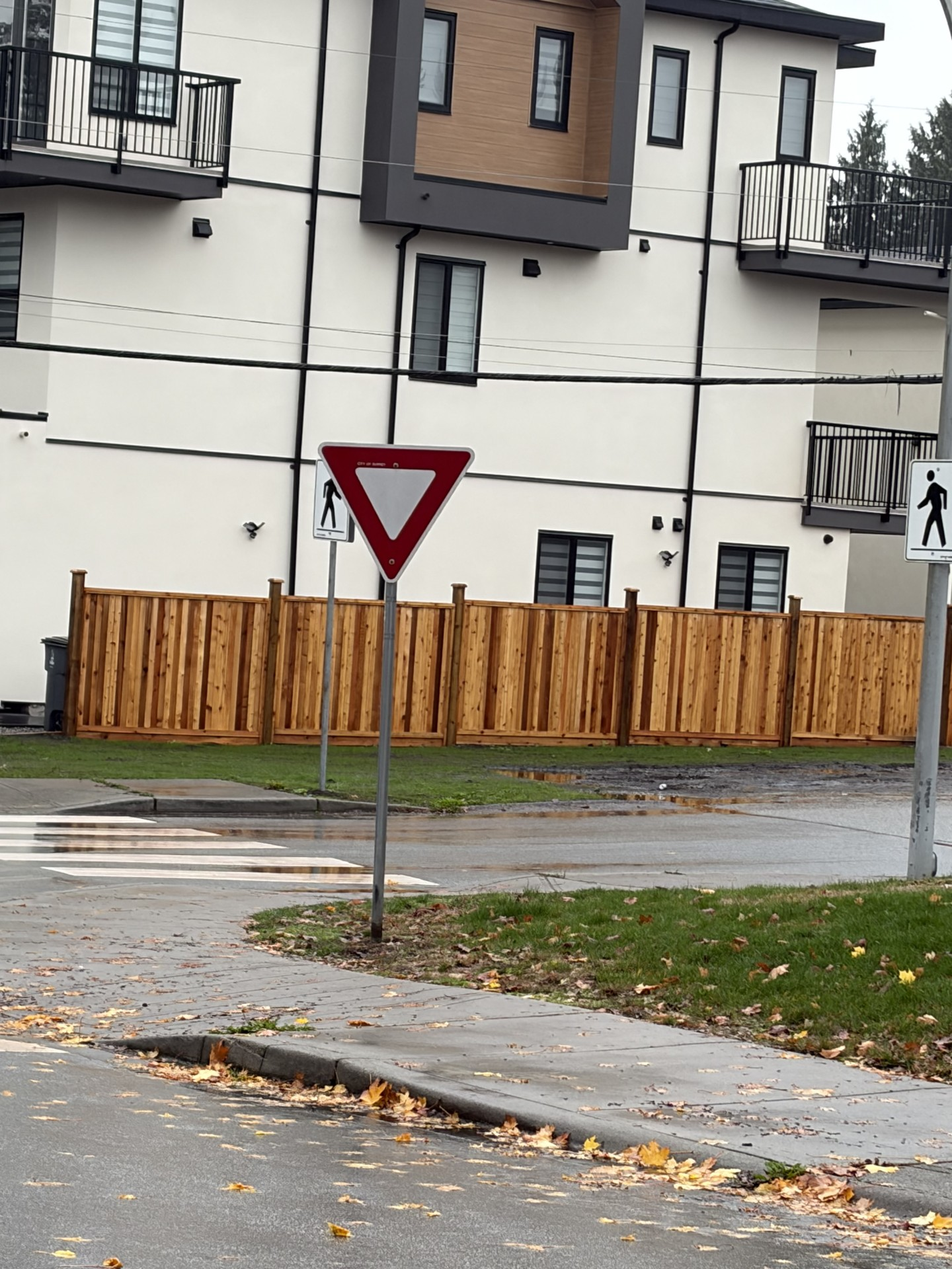pedestrian_crossing: (887, 431, 952, 576)
yield: (291, 362, 499, 630)
